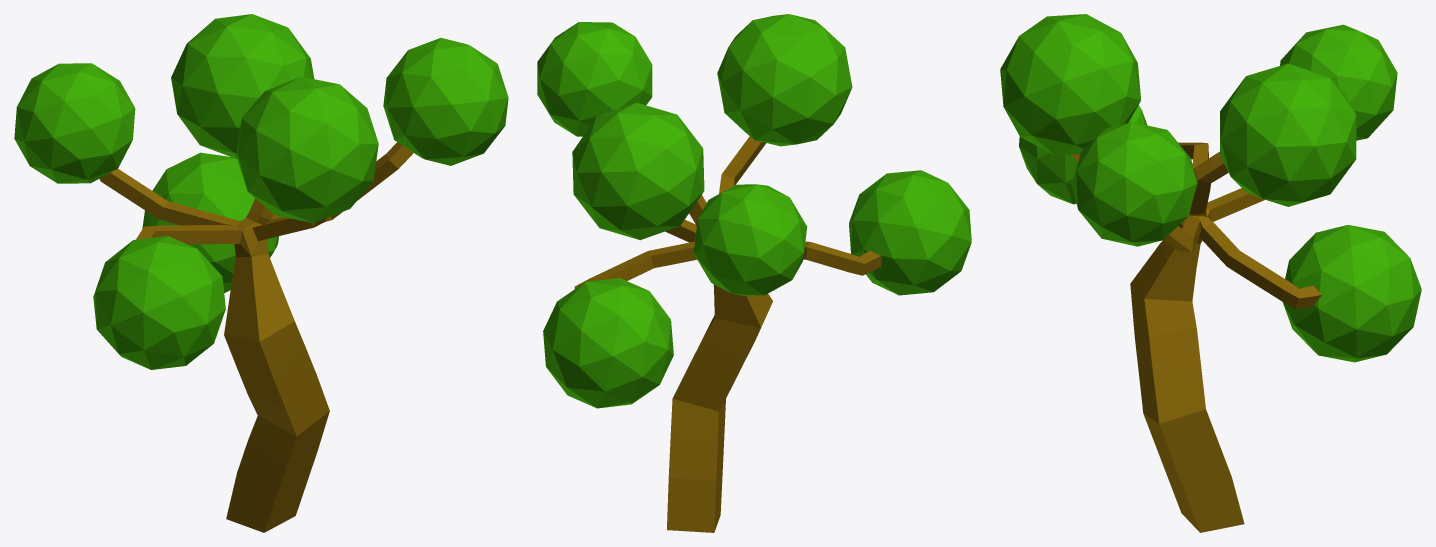
Rendered from Tree_Tree_Combined.fbx.
3 views of the same model, side by side, from view 1: azimuth 30°, elevation 25°; view 2: azimuth 150°, elevation 25°; view 3: azimuth 270°, elevation 25° (orthographic). The views are drawn at different scales.
Visible parts, largest first — view 1: Cube; view 2: Cube; view 3: Cube.
Boxes of the visible parts, box(x1,y1,x2,y2) form: Cube: box(14, 14, 508, 532); Cube: box(537, 14, 971, 532); Cube: box(1000, 14, 1421, 532).
Size of the model in its own units: 876 by 972 by 762.
